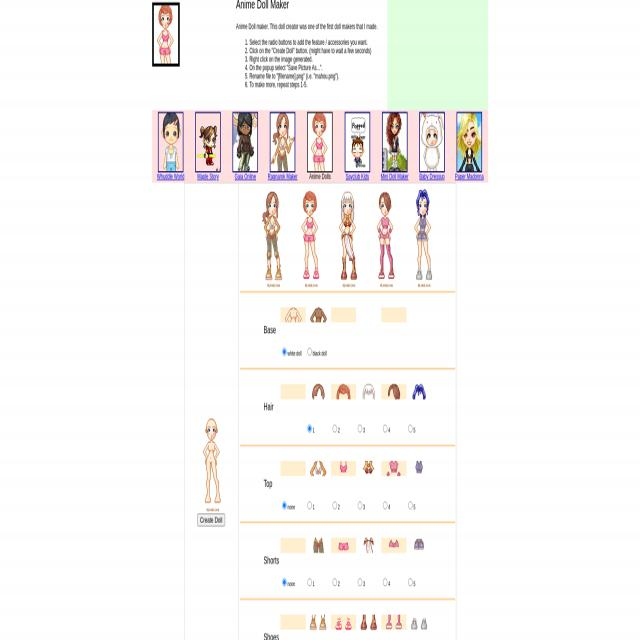button: (291, 184, 328, 288), (254, 184, 290, 288), (329, 184, 365, 288), (367, 184, 403, 288), (404, 184, 440, 288), (280, 307, 432, 323), (280, 384, 432, 400), (280, 461, 432, 476), (280, 538, 432, 553), (280, 615, 432, 630), (152, 2, 180, 66), (158, 112, 184, 172), (195, 112, 221, 172), (232, 112, 258, 172), (270, 112, 296, 172), (307, 112, 333, 172), (344, 112, 370, 172), (382, 112, 408, 172), (419, 112, 445, 172), (456, 112, 482, 172), (197, 514, 225, 526)
field: (307, 348, 312, 356), (307, 424, 312, 432), (307, 578, 312, 586), (307, 502, 312, 509), (282, 348, 286, 356), (333, 424, 337, 432), (358, 424, 362, 432), (383, 424, 387, 432), (408, 424, 412, 432), (282, 578, 286, 586), (333, 578, 337, 586), (358, 578, 362, 586), (383, 578, 387, 586), (408, 578, 412, 586), (282, 502, 286, 509), (333, 502, 337, 509), (358, 502, 362, 509), (383, 502, 387, 509), (408, 502, 412, 509)
